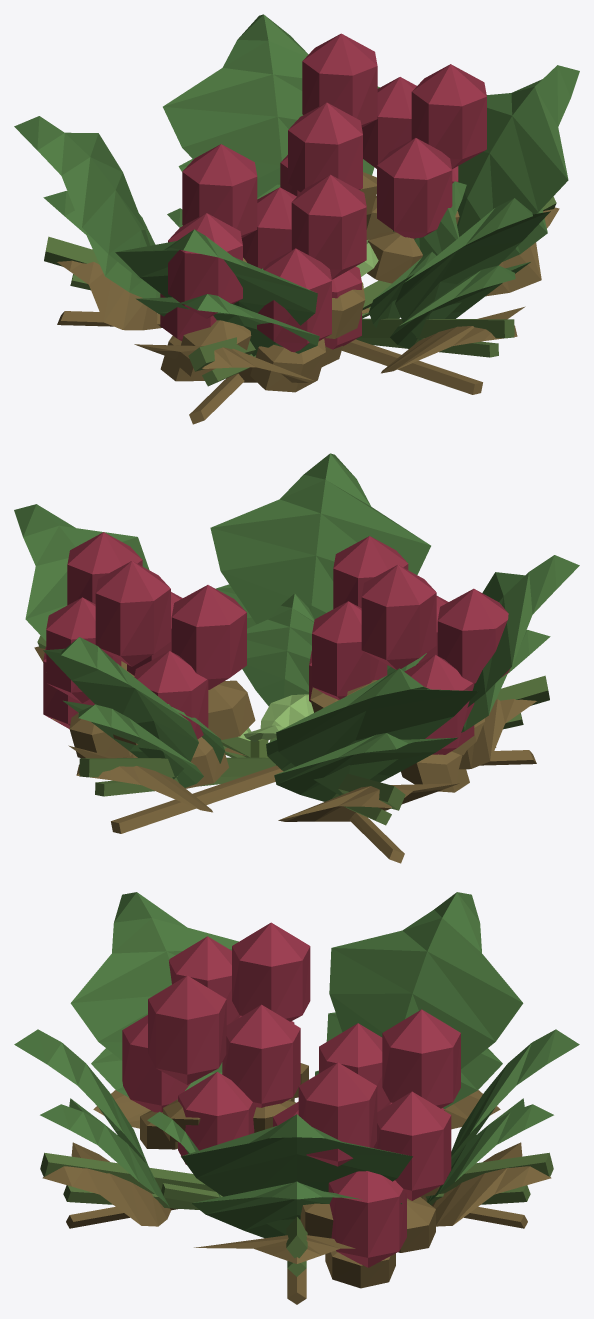
File: autumn_cranberry.glb
3 views of the same model, one above another, from view 1: azimuth 30°, elevation 25°; view 2: azimuth 150°, elevation 25°; view 3: azimuth 270°, elevation 25° (orthographic). The views are drawn at different scales.
Visible parts, largest first — view 1: stage3, dead, stage2, stage1; view 2: stage3, dead, stage2, stage1, stage0; view 3: stage3, dead, stage2, stage1.
Boxes of the visible parts, <box> form: stage3: <box>14,14,579,371</box>; dead: <box>57,172,559,424</box>; stage2: <box>43,159,547,386</box>; stage1: <box>167,179,466,327</box>; stage3: <box>14,453,579,810</box>; dead: <box>34,646,536,863</box>; stage2: <box>63,584,550,825</box>; stage1: <box>168,593,426,771</box>; stage0: <box>238,694,313,757</box>; stage3: <box>14,892,579,1267</box>; dead: <box>42,1063,551,1304</box>; stage2: <box>40,1012,553,1276</box>; stage1: <box>147,1062,430,1202</box>.
Size of the model in its own units: 0.6485 by 0.31 by 0.6391.
